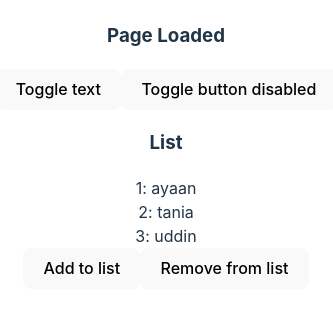
Element added to the list
Expected: the number of elements with test id "record" is 3, [136, 178, 196, 198]; [138, 202, 194, 222]; [135, 226, 197, 246]
Click the button "Add to list" at (82,268), box [23, 248, 140, 289]
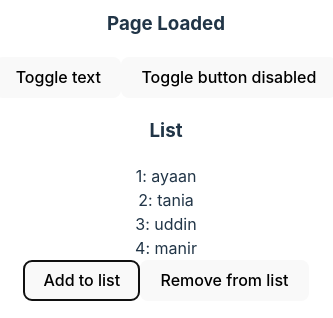
Expected: the number of elements with test id "record" is 4, [136, 166, 196, 186]; [138, 190, 194, 210]; [135, 214, 197, 234]; [135, 238, 197, 258]
